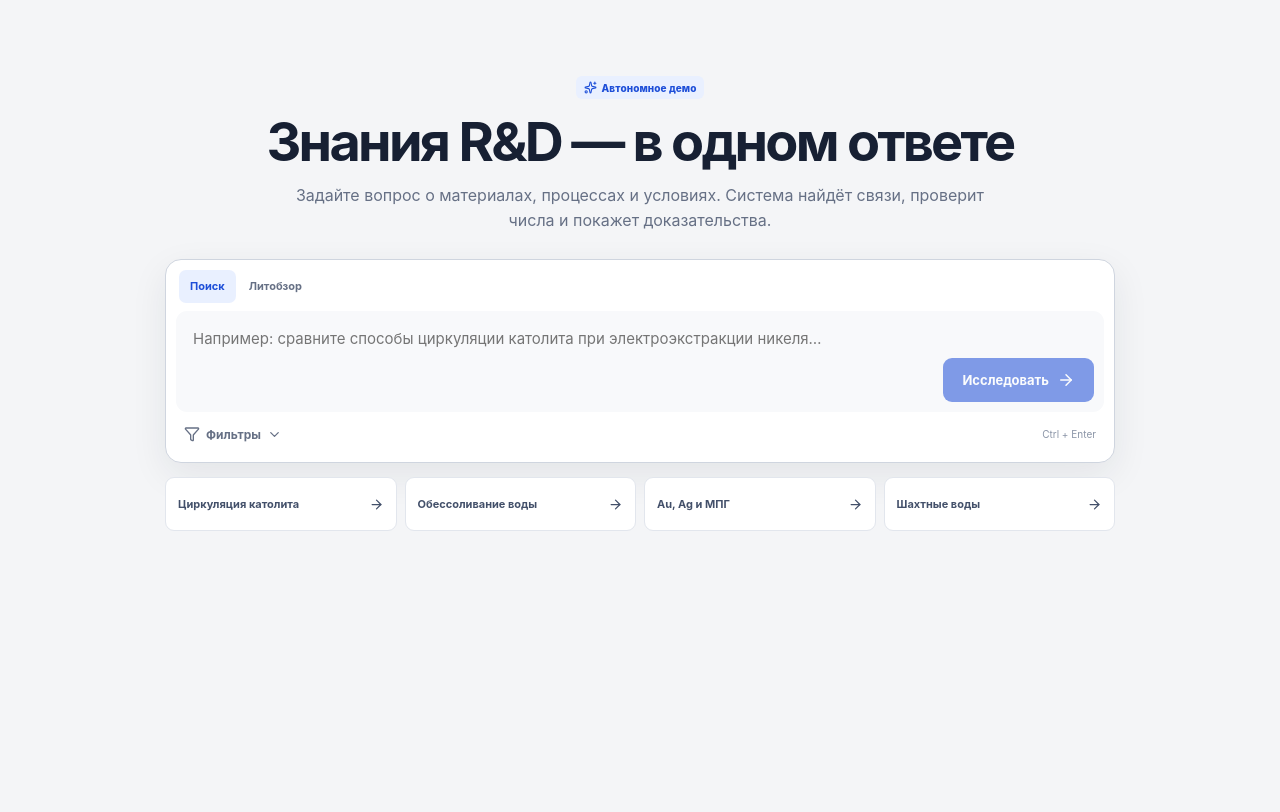
SearchPage › runs the catholyte search and shows numeric facts
Click the button "Циркуляция католита". click: (281, 504)
box: [165,478,396,532]
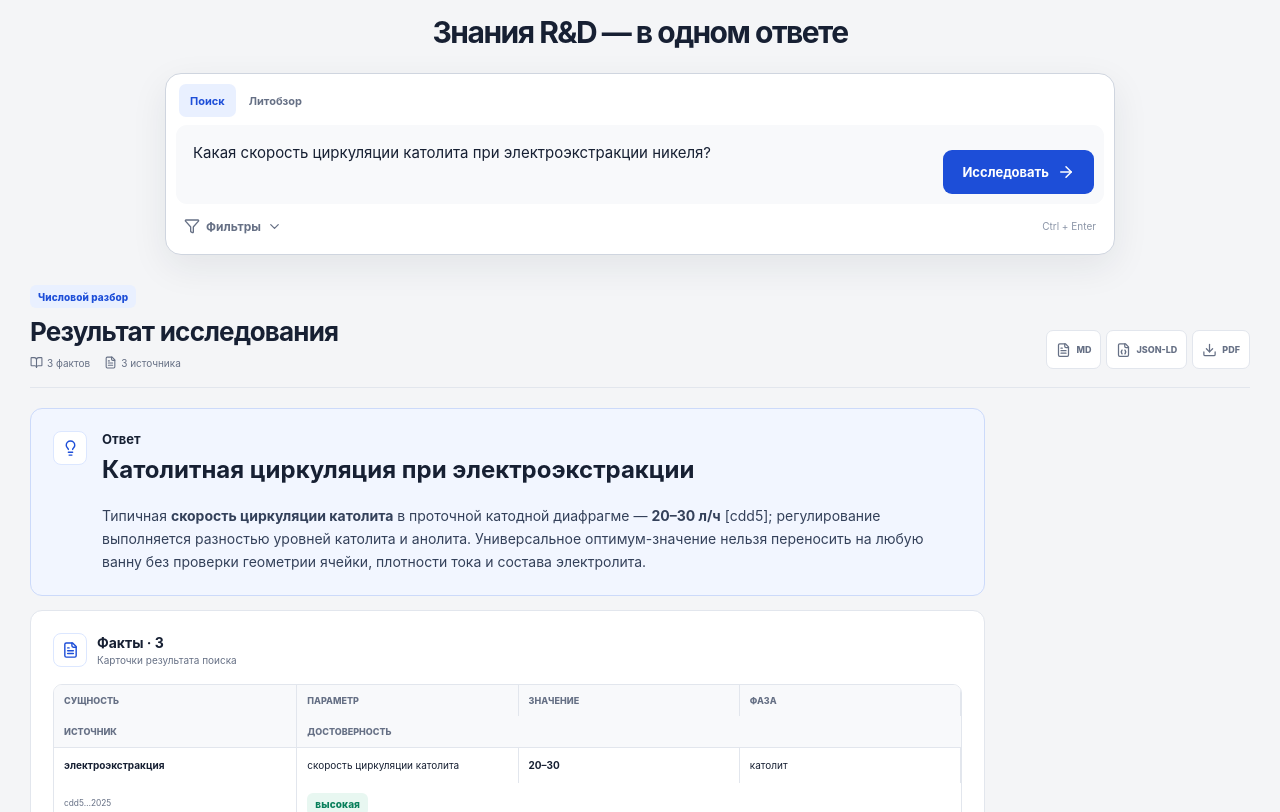
Now the text "Числовой разбор" is shown, box [30,285,136,308]
Now the text "20–30 л/ч" is shown, box [651,507,721,524]
Now the text "электроэкстракция" is shown, box [64,759,164,771]
